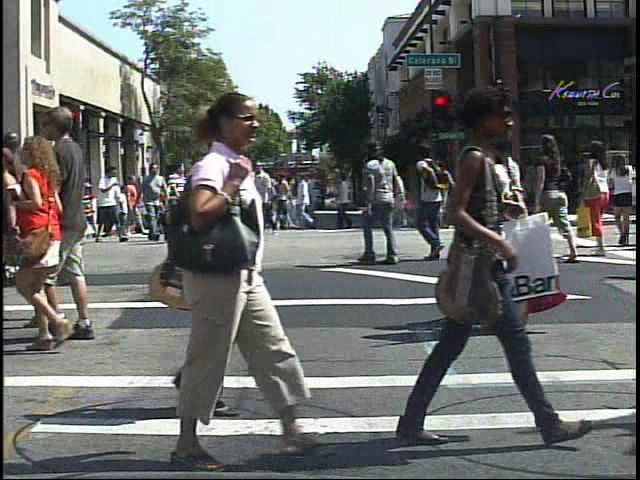person: (373, 78, 561, 461), (134, 82, 308, 477), (447, 128, 562, 347), (35, 100, 112, 347), (19, 126, 94, 351), (356, 134, 414, 274), (406, 138, 464, 269), (501, 129, 536, 344), (531, 126, 577, 261), (579, 136, 620, 261), (212, 148, 247, 250), (164, 158, 196, 242), (146, 159, 177, 245), (98, 162, 130, 245), (613, 147, 639, 241), (386, 164, 413, 236), (72, 180, 98, 243), (80, 183, 100, 227)
